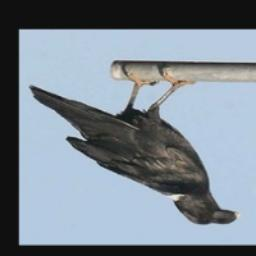Crow: (29, 64, 240, 228)
